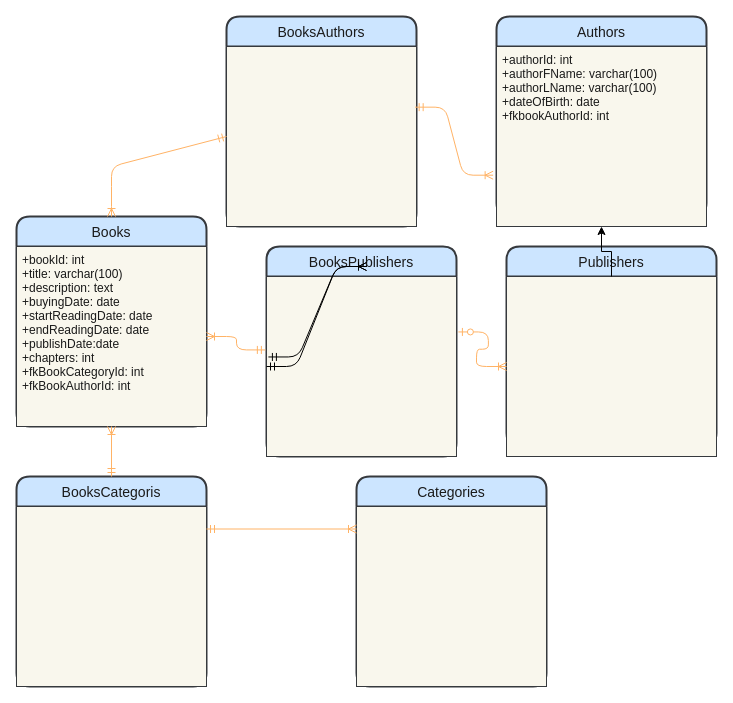
Some shapes in this 733 by 703 pixel diagram are drawn without their labels. Each missing label, with the centre of its shape:
+bookAuthorId:int +fkBookId: int +fkAuthorId:int: (321,136)
+bookCategoryId:int +fkBookId: int +fkCategorieId:int: (111,596)
+bookPublisherId:int +fkBookId: int +fkPublisherId:int: (361,366)
+categoryId: int +categoryName: varchar(100) +bookCategoryId: int: (451,596)
+publisherId: int +publisherName: varchar(100) +publisherAddress: varchar(100): (611,366)
